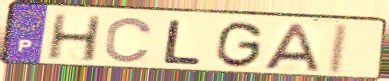A: (261, 22, 321, 72)
C: (102, 16, 156, 64)
G: (213, 20, 266, 70)
H: (44, 13, 104, 63)
I: (324, 22, 352, 77)
L: (160, 18, 204, 67)
